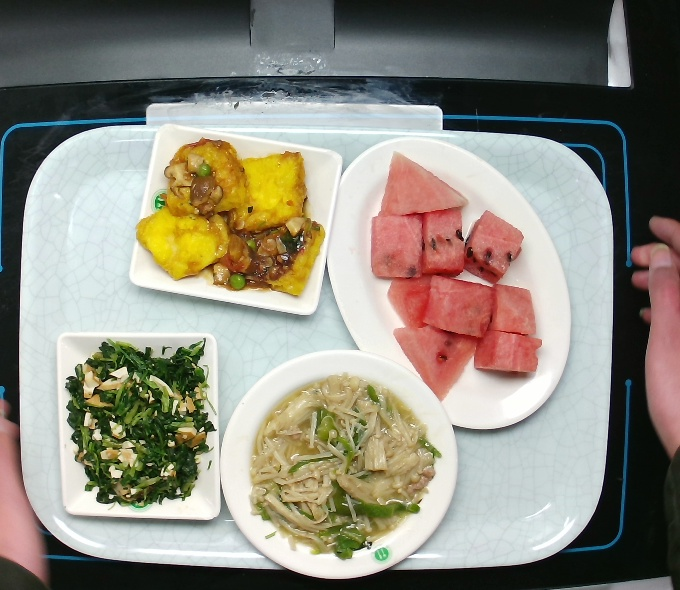wcq-CuiPiDouFu: (130, 134, 329, 299)
wcq-JinZhenGu: (242, 367, 446, 566)
wcq-MaLanTouChaoDouGan: (59, 333, 222, 513)
wcq-XiGua: (363, 147, 548, 407)
